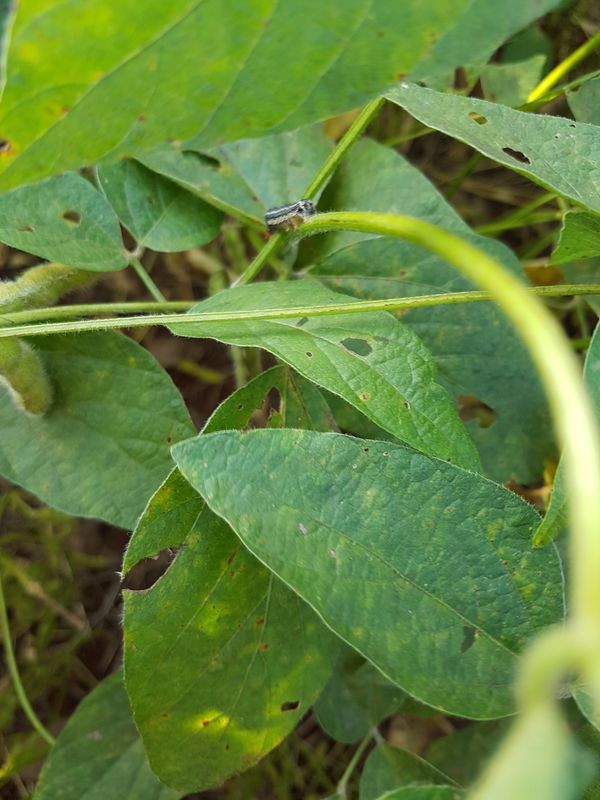Spodoptera_albula: (246, 185, 334, 255)
